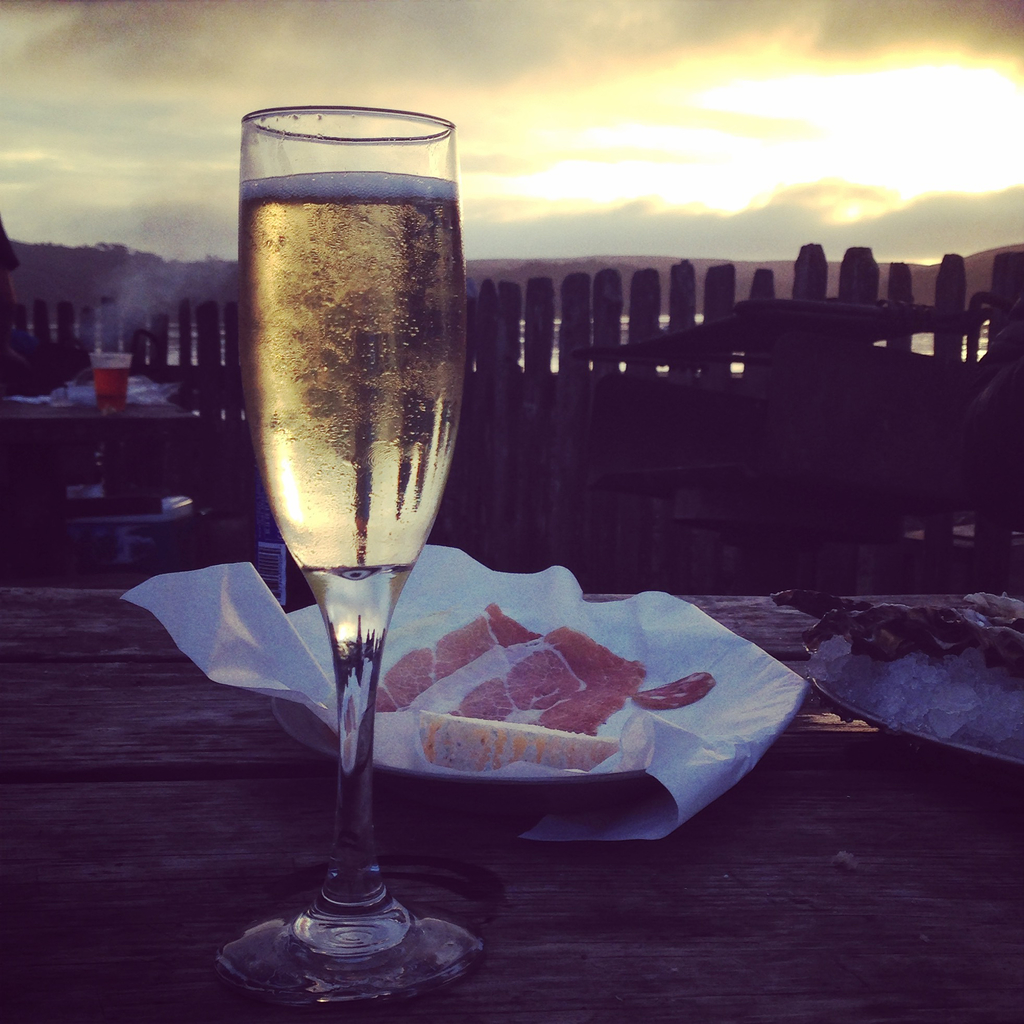Beer: (231, 99, 486, 1013), (92, 354, 129, 410)
